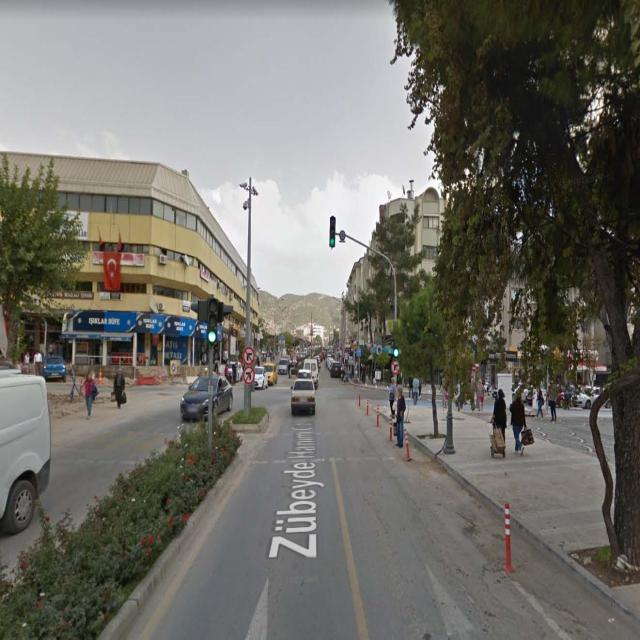sagadonulmez: (243, 347, 254, 364), (391, 360, 399, 376)
soladonulmez: (244, 366, 254, 384)
yesil: (208, 298, 217, 344), (330, 216, 336, 248)
